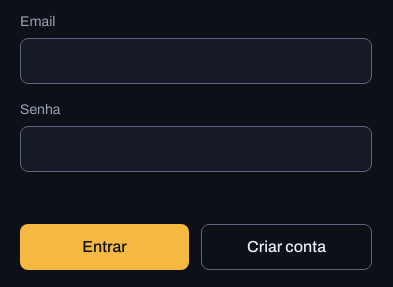
Test case: EntrarForm › mostra o erro traduzido e não navega
The width and height of the screenshot is (393, 287).
Type "ana@exemplo.com" into the field labelled "Email".
click(196, 61); type("ana@exemplo.com")  # box [20,38,372,84]
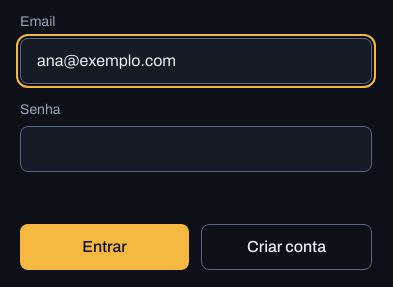
Type "segredo123" into the password field labelled "Senha".
click(196, 149); type("segredo123")  # box [20,126,372,172]
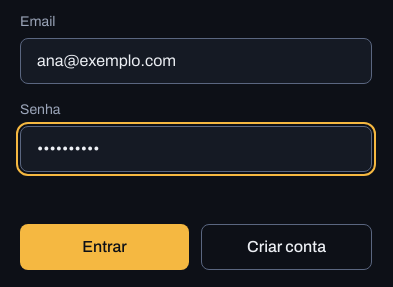
Click the button "Entrar".
click(104, 247)  # box [20,224,189,270]
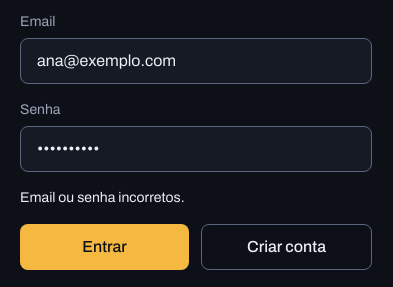
Check: the text "Email ou senha incorretos." is shown, box [20,190,184,205]
